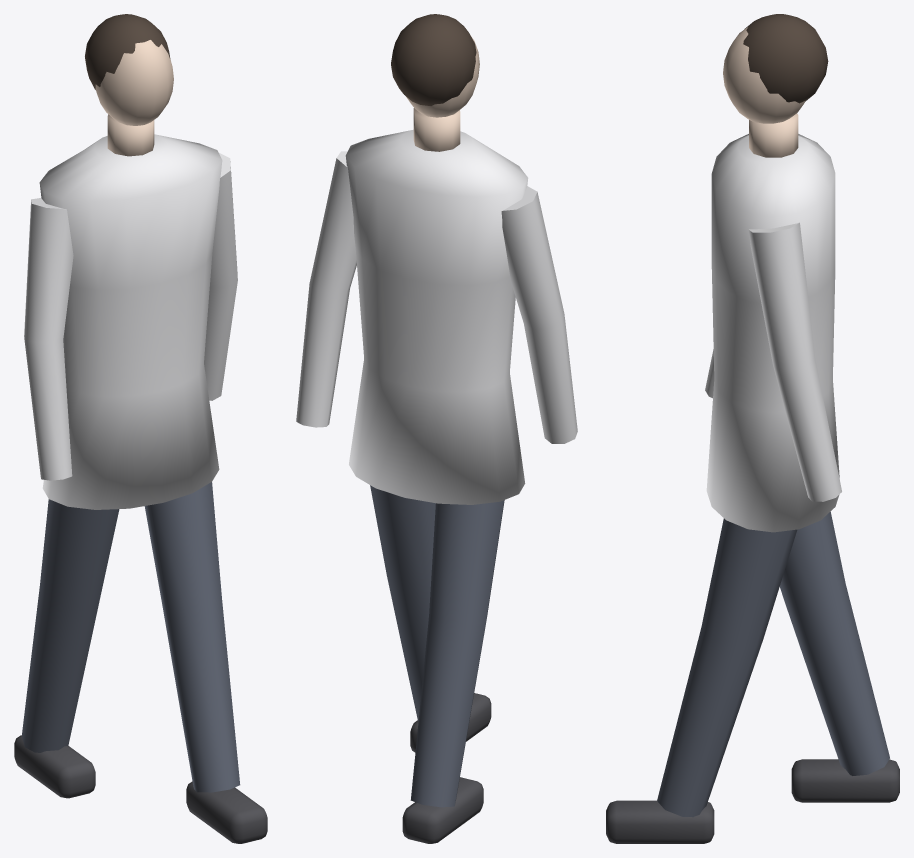
The model's file is pedestrian.glb.
The picture shows the model from 3 angles, left to right: view 1: azimuth 30°, elevation 25°; view 2: azimuth 150°, elevation 25°; view 3: azimuth 270°, elevation 25°; orthographic projection. The views are drawn at different scales.
Parts seen in each view (by area): view 1: Coat, Leg_1, Leg_-1, Arm_-1, Arm_1, Sphere, Cube.001, Sphere.001, Cube, Cylinder; view 2: Coat, Leg_-1, Arm_-1, Arm_1, Leg_1, Sphere.001, Cube, Cylinder, Sphere, Cube.001; view 3: Coat, Leg_1, Leg_-1, Arm_1, Sphere.001, Cube, Cube.001, Sphere, Cylinder.
Boxes of the visible parts, x1,y1,x2,y2 form: Coat: (39, 134, 222, 509); Leg_1: (144, 482, 240, 792); Leg_-1: (21, 499, 119, 752); Arm_-1: (24, 198, 73, 480); Arm_1: (204, 153, 237, 400); Sphere: (95, 40, 173, 125); Cube.001: (186, 781, 267, 843); Sphere.001: (85, 14, 170, 89); Cube: (14, 735, 95, 798); Cylinder: (107, 114, 154, 156); Coat: (345, 129, 528, 504); Leg_-1: (410, 500, 504, 807); Arm_-1: (501, 186, 577, 443); Arm_1: (296, 151, 356, 427); Leg_1: (370, 485, 435, 720); Sphere.001: (391, 14, 476, 105); Cube: (402, 777, 483, 843); Cylinder: (413, 108, 460, 151); Sphere: (406, 35, 479, 117); Cube.001: (410, 693, 491, 752); Coat: (706, 134, 839, 532); Leg_1: (657, 518, 797, 817); Leg_-1: (780, 512, 889, 775); Arm_1: (748, 222, 841, 501); Sphere.001: (743, 14, 828, 103); Cube: (791, 759, 899, 802); Cube.001: (606, 800, 714, 843); Sphere: (723, 27, 805, 123); Cylinder: (749, 113, 798, 157).
Bounding box in the file's own units: 0.5332 × 1.71 × 0.57.
